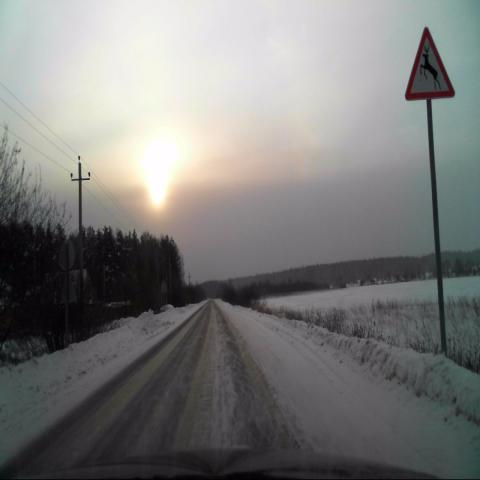1_27: (406, 23, 456, 104)
